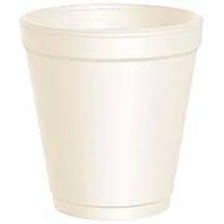paper_cup: (14, 0, 208, 224)
